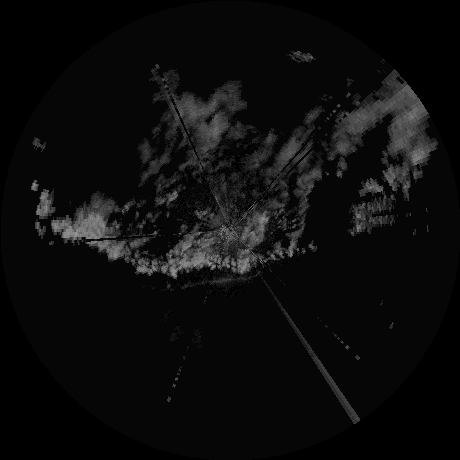frontgust: (180, 271, 261, 288)
